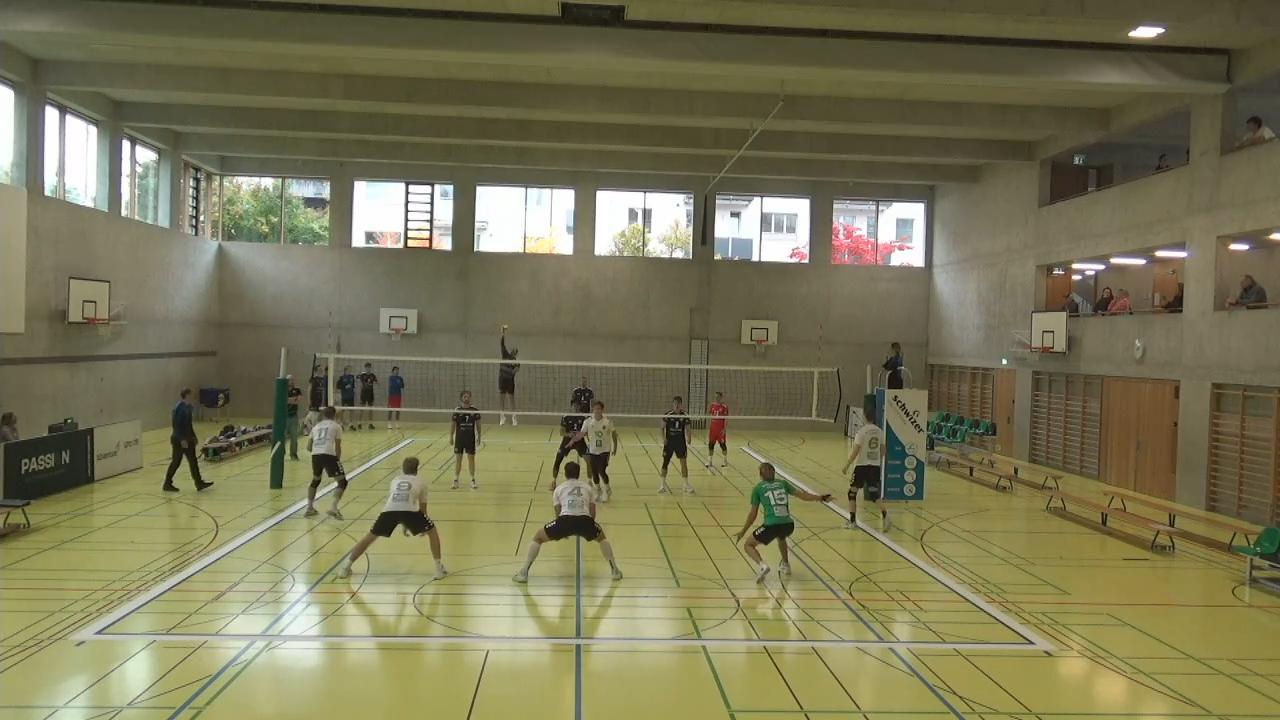battuta: (489, 326, 524, 430)
